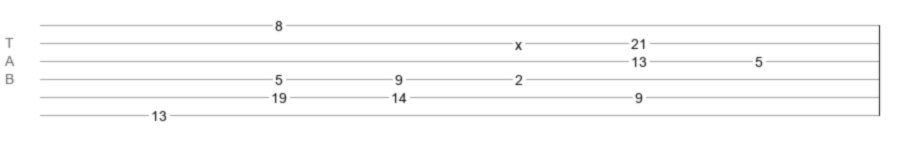13: (151, 108, 167, 118), (631, 54, 647, 64)
14: (391, 90, 407, 100)
19: (271, 90, 287, 100)
2: (515, 72, 523, 82)
21: (631, 36, 647, 46)
5: (275, 72, 283, 82), (755, 54, 763, 64)
8: (275, 18, 283, 28)
9: (395, 72, 403, 82), (635, 90, 643, 100)
x: (515, 37, 522, 45)
